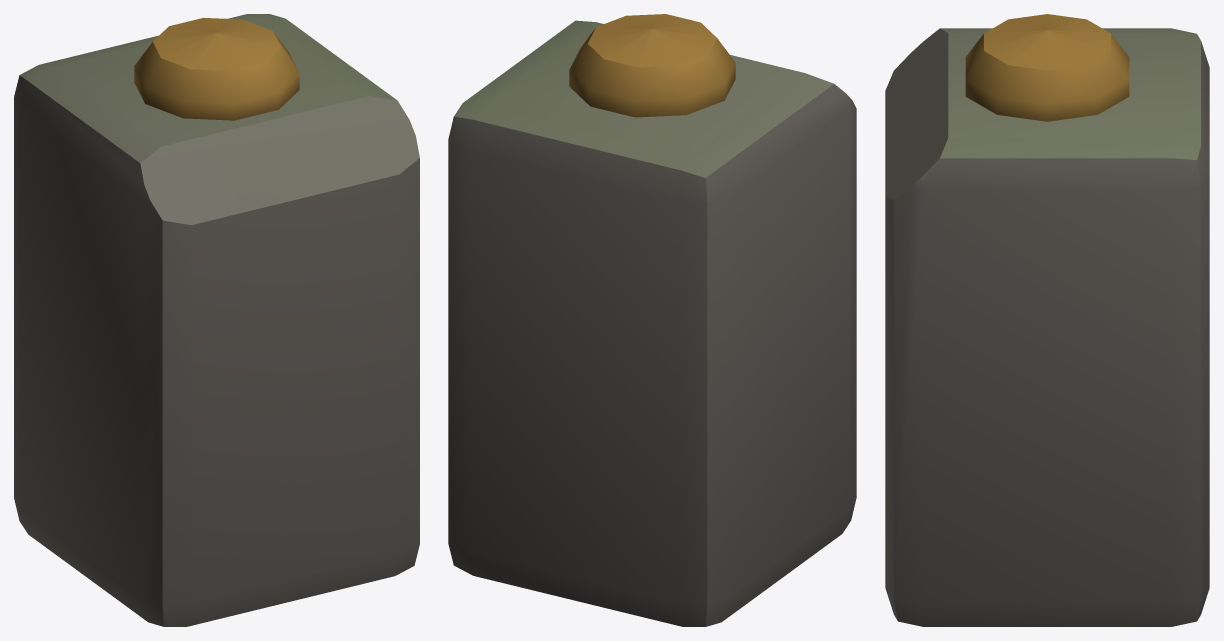
The model's file is ruins-pc-corner.glb.
3 renders of one model, left to right at view 1: azimuth 30°, elevation 25°; view 2: azimuth 150°, elevation 25°; view 3: azimuth 270°, elevation 25°, orthographic. The views are drawn at different scales.
Visible parts, largest first — view 1: 0_ruins_pc_corner; view 2: 0_ruins_pc_corner; view 3: 0_ruins_pc_corner.
Boxes of the visible parts, x1,y1,x2,y2 form: 0_ruins_pc_corner: (14, 14, 419, 626); 0_ruins_pc_corner: (448, 14, 856, 626); 0_ruins_pc_corner: (885, 14, 1209, 626).
Size of the model in its own units: 0.17 by 0.3075 by 0.17.
